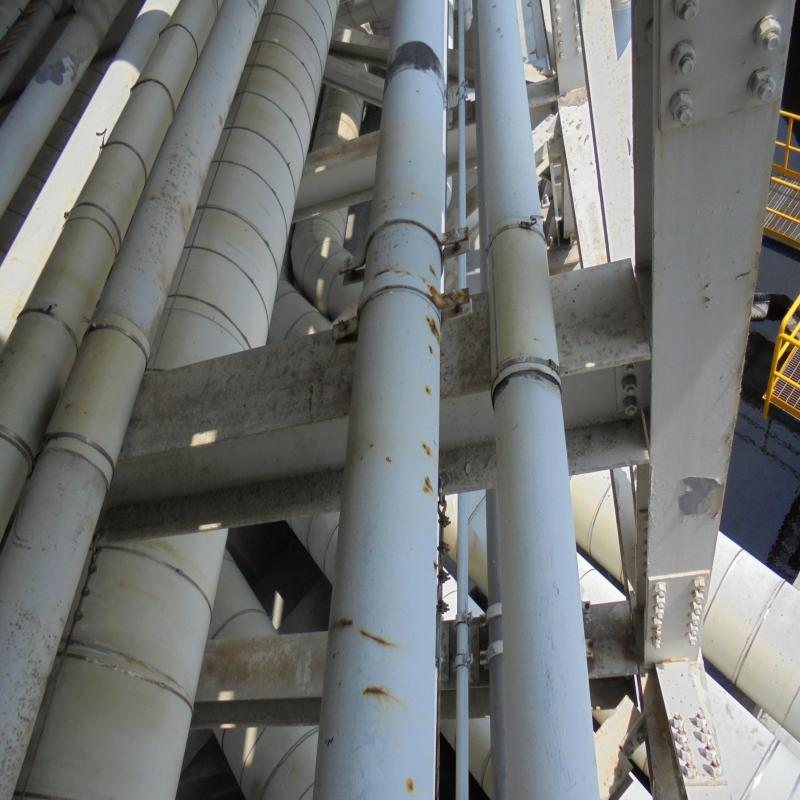corrosion: (432, 280, 451, 339)
